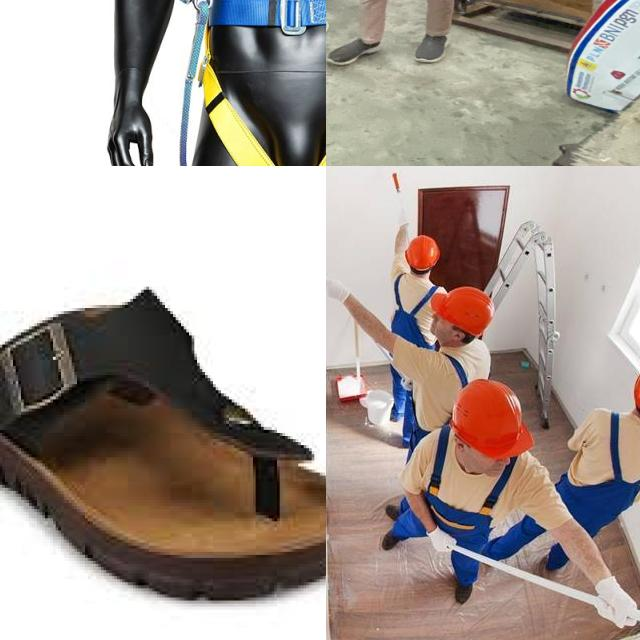Harness: (181, 0, 326, 166)
Sandals: (0, 241, 326, 630)
hand_glove: (591, 573, 640, 632), (422, 521, 463, 557), (326, 272, 353, 309)
head_helmet: (446, 373, 536, 459), (429, 280, 496, 341), (401, 231, 441, 275)
person: (388, 379, 544, 618), (551, 349, 640, 567), (392, 287, 505, 458), (386, 230, 447, 447), (333, 0, 488, 74)
shoes: (326, 33, 384, 68), (408, 30, 452, 64), (447, 566, 480, 608), (379, 520, 409, 554)
